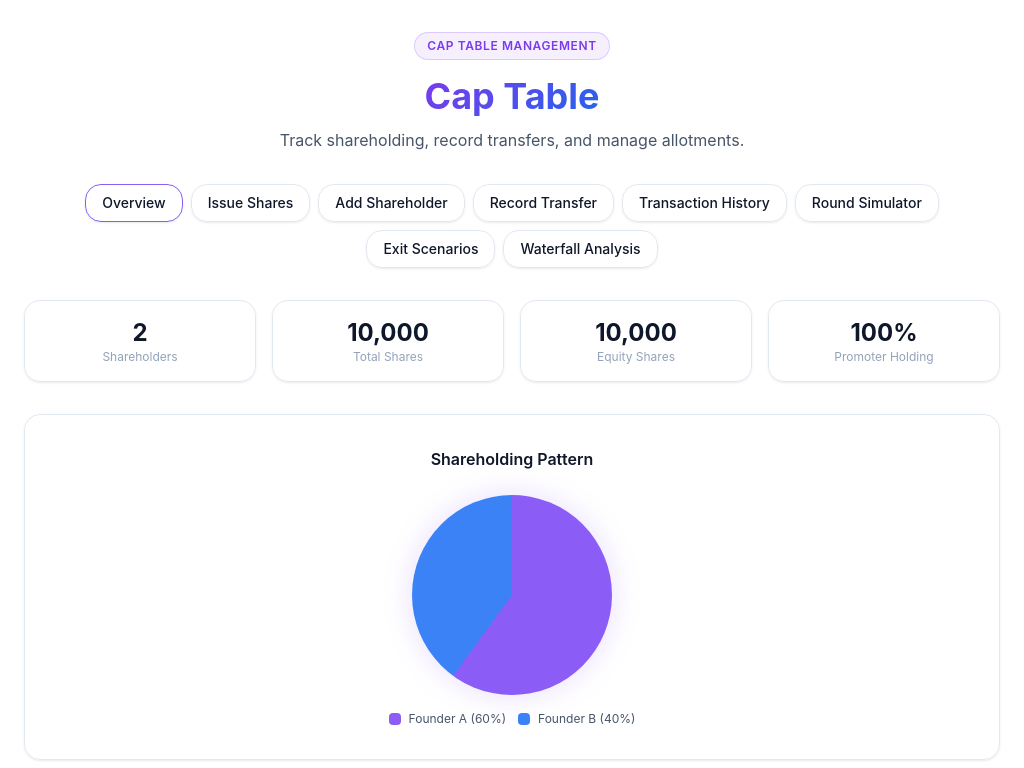
Test: CapTablePage › renders the round simulator tab content
Check: the button "Overview" is shown, box [85, 184, 183, 222]
Click the button "Round Simulator". click: (867, 203)
box: [795, 184, 939, 222]
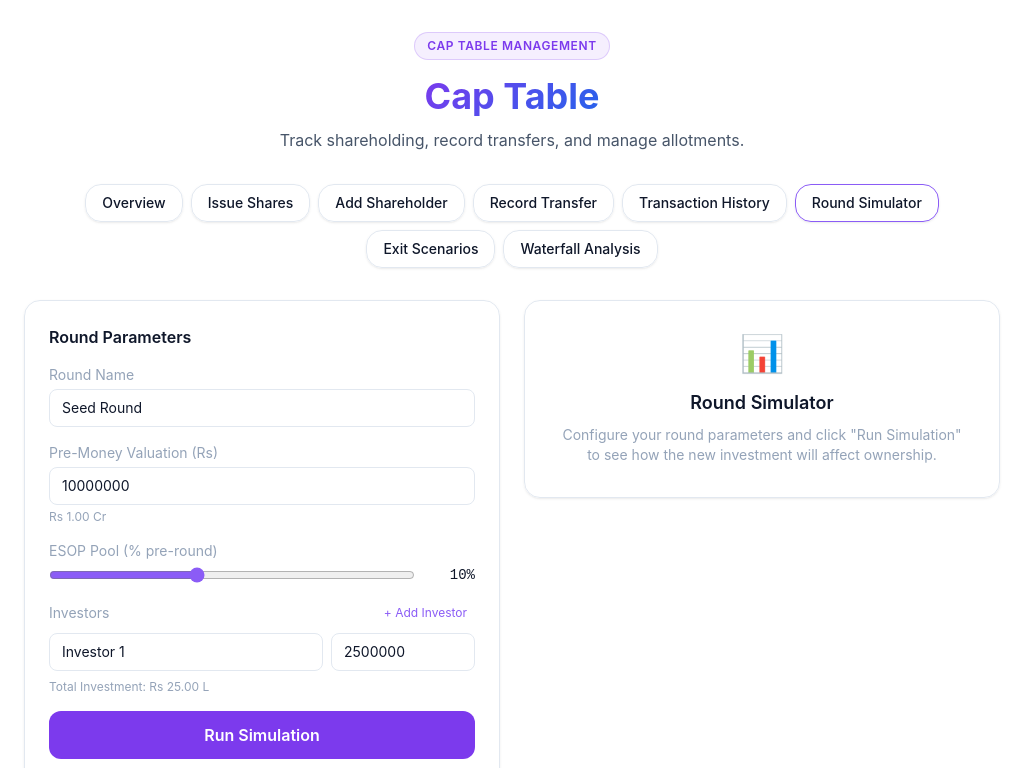
Check: the heading "Round Parameters" is shown, box [49, 327, 191, 347]
Check: the button "Run Simulation" is shown, box [49, 711, 475, 759]
